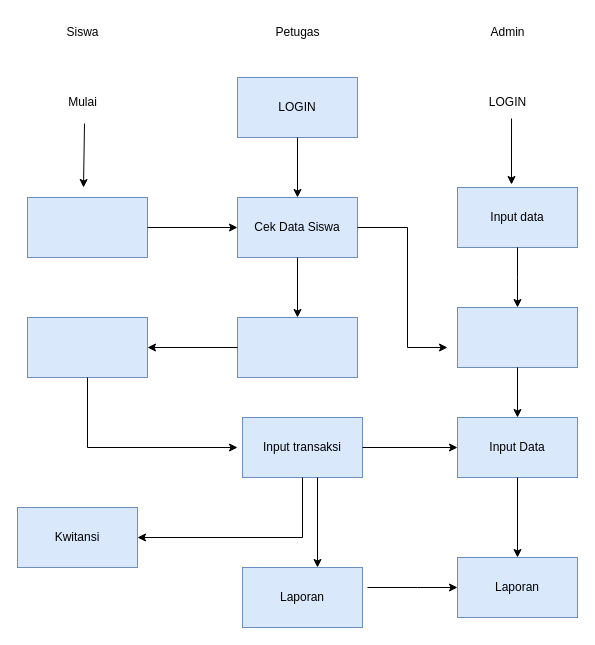
Some shapes in this 595 by 645 pixel diagram are drawn without their labels. The shapes that lost their labels are listed below. From the top down, each one's centre as x and y in pixels, then its label:
point 87,227: Memberikan NIS
point 87,347: Bayar SPP
point 297,347: Tambah Pembayaran
point 517,337: Mencari data
